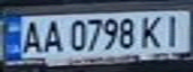0: (66, 16, 87, 52)
7: (84, 16, 103, 52)
8: (118, 15, 139, 49)
9: (100, 16, 121, 51)
A: (39, 17, 66, 54), (18, 18, 45, 54)
I: (157, 11, 190, 47)
K: (136, 14, 169, 50)
